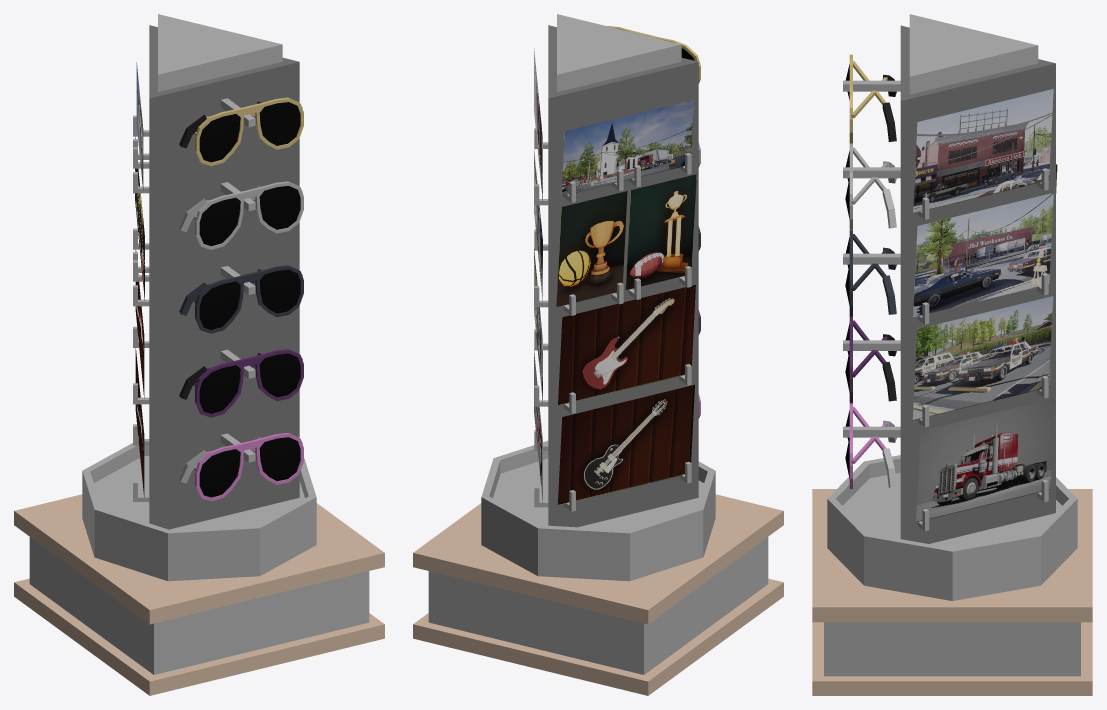
The model's file is SM_glassesStand_01.glb.
3 renders of one model, left to right at view 1: azimuth 30°, elevation 25°; view 2: azimuth 150°, elevation 25°; view 3: azimuth 270°, elevation 25°, orthographic. The views are drawn at different scales.
Visible parts, largest first — view 1: SM_glassesStand_01; view 2: SM_glassesStand_01; view 3: SM_glassesStand_01.
Part boxes in pixels (x1=…): SM_glassesStand_01: x1=14, y1=14, x2=384, y2=695; SM_glassesStand_01: x1=413, y1=14, x2=783, y2=695; SM_glassesStand_01: x1=812, y1=14, x2=1092, y2=695.
Size of the model in its own units: 0.4 by 0.9321 by 0.4.
2 materials, 2 textured.
